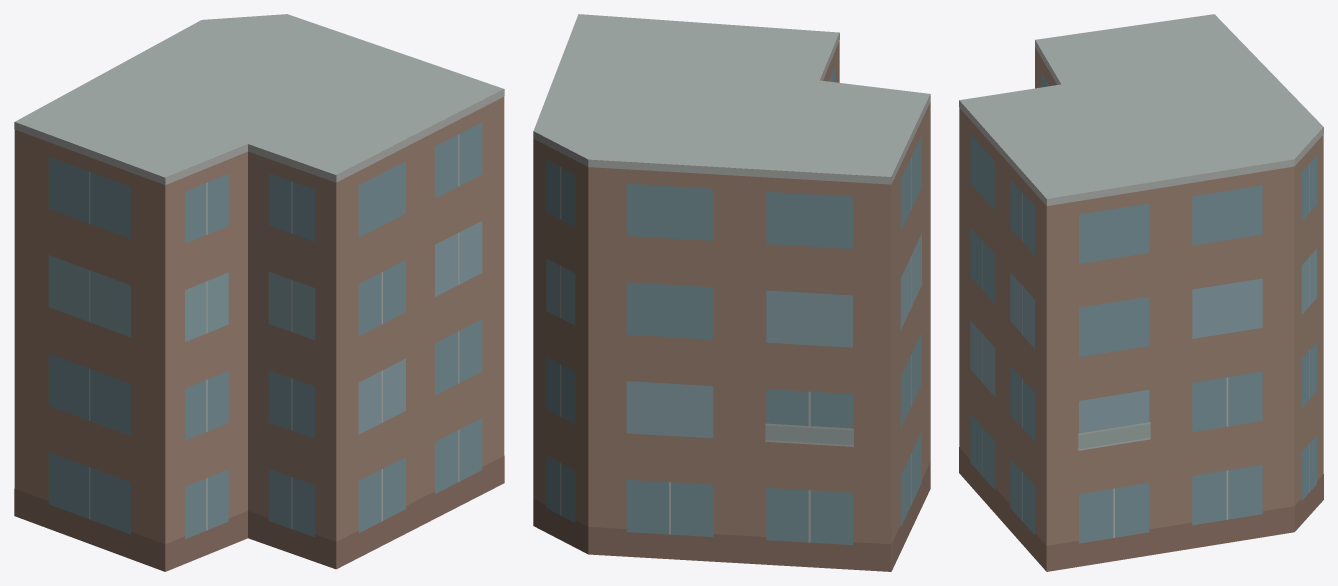
File: survey-upis-32762402.glb
The picture shows the model from 3 angles, left to right: view 1: azimuth 30°, elevation 25°; view 2: azimuth 150°, elevation 25°; view 3: azimuth 270°, elevation 25°; orthographic projection. The views are drawn at different scales.
Visible parts, largest first — view 1: survey-upis-32762402.tmp; view 2: survey-upis-32762402.tmp; view 3: survey-upis-32762402.tmp.
Boxes of the visible parts, x1=… form: survey-upis-32762402.tmp: x1=14, y1=14, x2=504, y2=571; survey-upis-32762402.tmp: x1=533, y1=14, x2=930, y2=571; survey-upis-32762402.tmp: x1=959, y1=14, x2=1323, y2=571.
Size of the model in its own units: 13.64 by 12.8 by 11.36.
